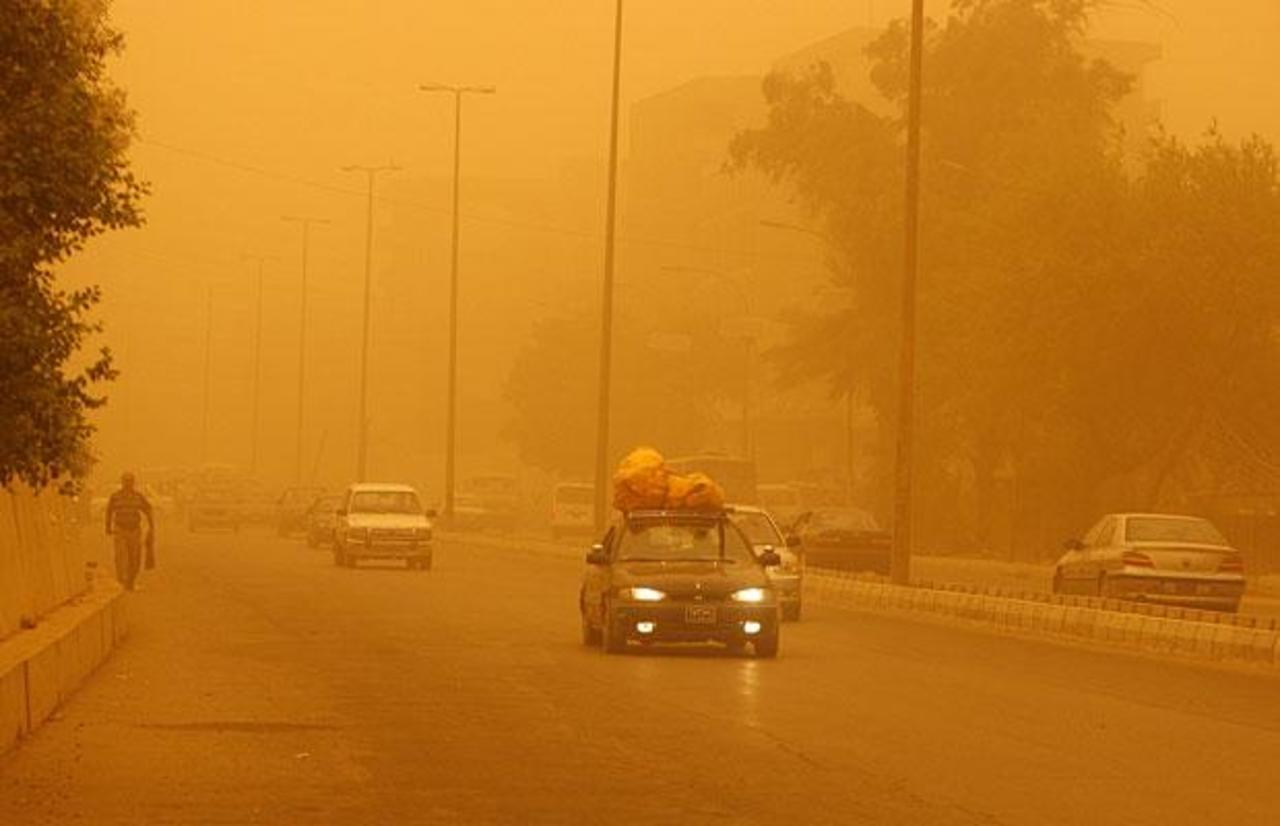bus: (670, 455, 768, 513), (461, 471, 517, 534)
car: (577, 510, 787, 659), (1049, 511, 1244, 609), (334, 482, 434, 571), (736, 498, 805, 616), (789, 508, 892, 574), (550, 483, 594, 538), (188, 486, 237, 533), (276, 485, 326, 527), (308, 494, 340, 544), (439, 492, 483, 526), (238, 485, 271, 516)
person: (105, 472, 157, 581)
